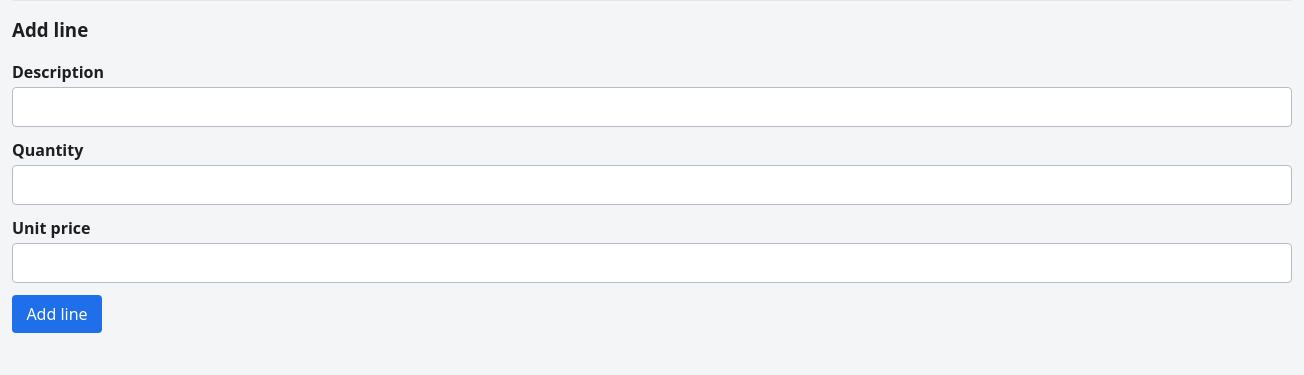
Test: T-11 OrderLineForm › rejects quantity
Type "Widget" into the field labelled "Description" at (652, 107), box [12,87,1292,127]
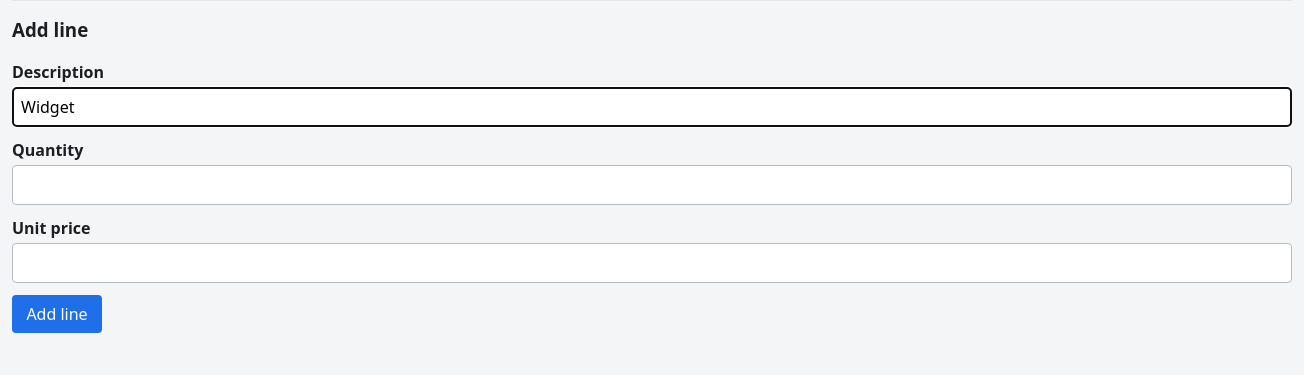
Type "1" into the field labelled "Unit price" at (652, 263), box [12,243,1292,283]
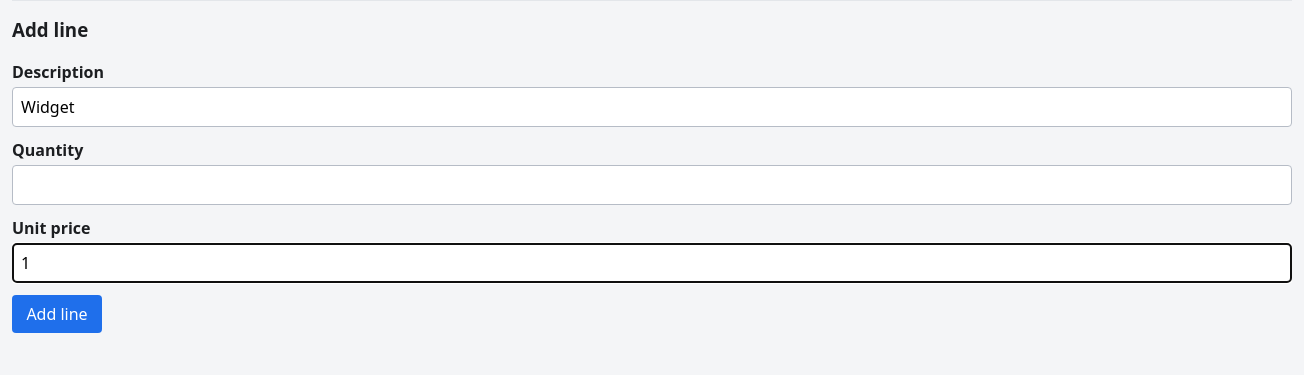
Click the button "Add line" at (57, 314), box [12,295,102,333]
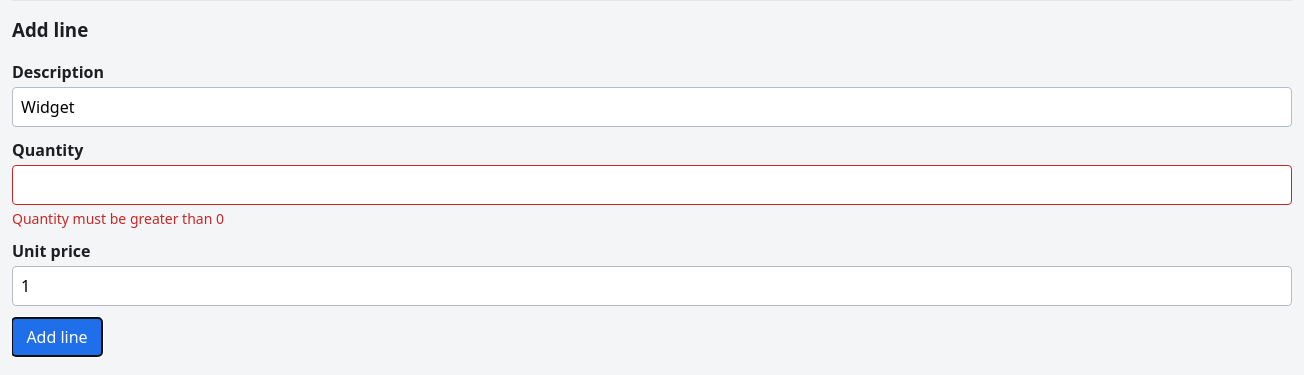
Now the text "Quantity must be greater than 0" is shown, box [12,209,224,228]
